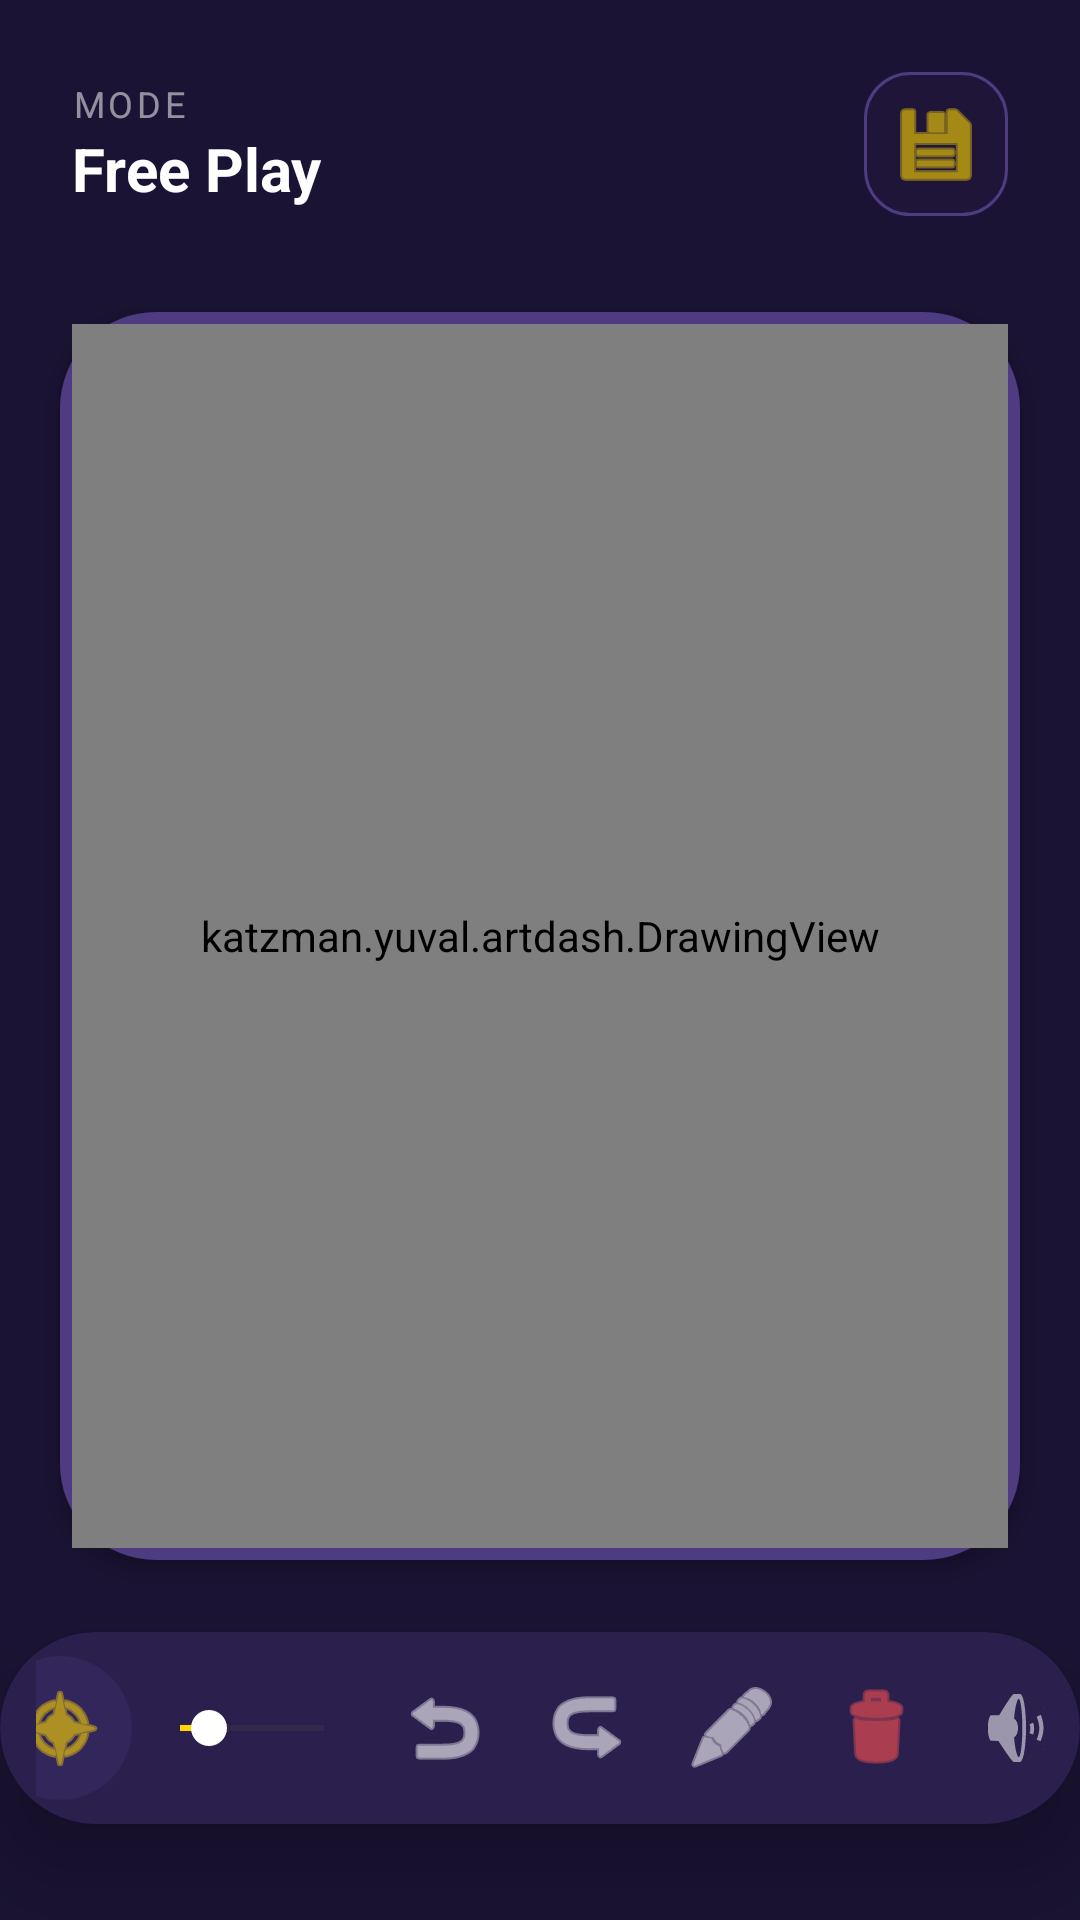

Locate icon controls on the screen. Image size 1080×1920, boxes as (x1, y1, x2, y2).
Clear entire canvas: (849, 1689, 904, 1764)
Mute or unmute music: (988, 1694, 1044, 1762)
Save drawing to profile: (864, 72, 1008, 216)
Undo last action: (411, 1697, 480, 1760)
